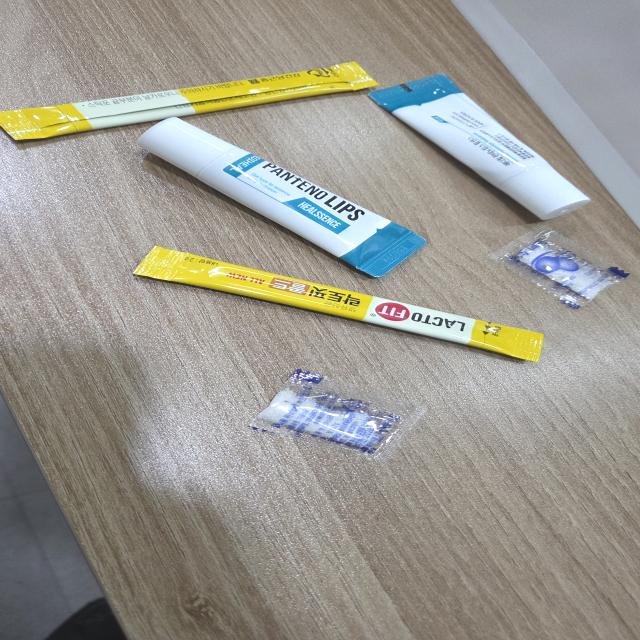lacto: (129, 246, 543, 365), (0, 60, 381, 141)
lib: (128, 117, 432, 278), (363, 70, 582, 220)
salt: (242, 367, 429, 462), (490, 225, 629, 308)
